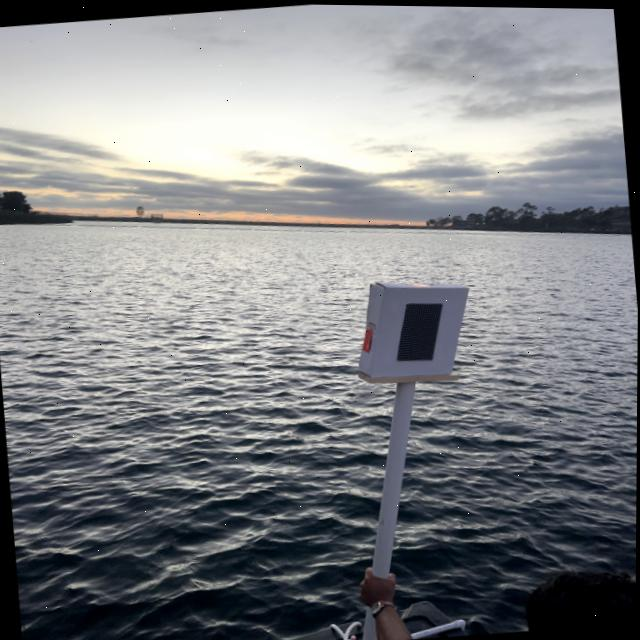led: (382, 281, 447, 376)
